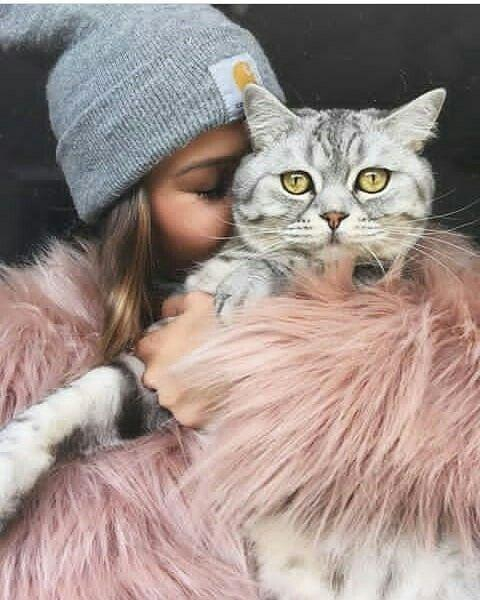kedo: (233, 83, 447, 264)
